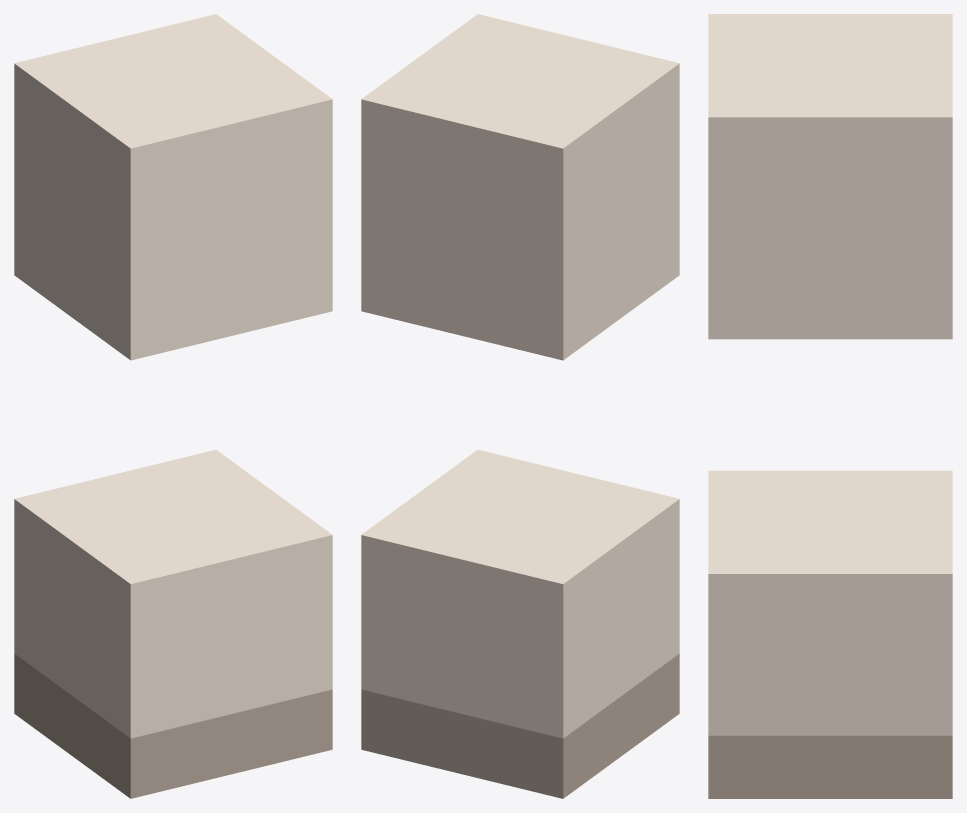
File: mesh_window_middle.obj
The picture shows the model from 3 angles, left to right: view 1: azimuth 30°, elevation 25°; view 2: azimuth 150°, elevation 25°; view 3: azimuth 270°, elevation 25°; orthographic projection. The views are drawn at different scales.
Visible parts, largest first — view 1: Cube; view 2: Cube; view 3: Cube.
Part boxes in pixels (x1,y1,x2,y2): Cube: (14, 14, 332, 798); Cube: (361, 14, 679, 798); Cube: (708, 14, 952, 798).
Bounding box in the file's own units: 4 × 12.3 × 4.
1 material, 1 textured.
